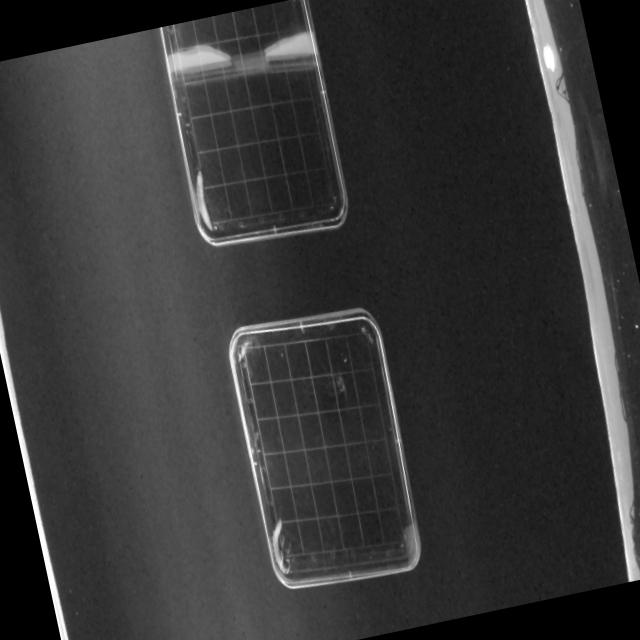larva: (190, 166, 218, 234), (267, 518, 292, 576)
